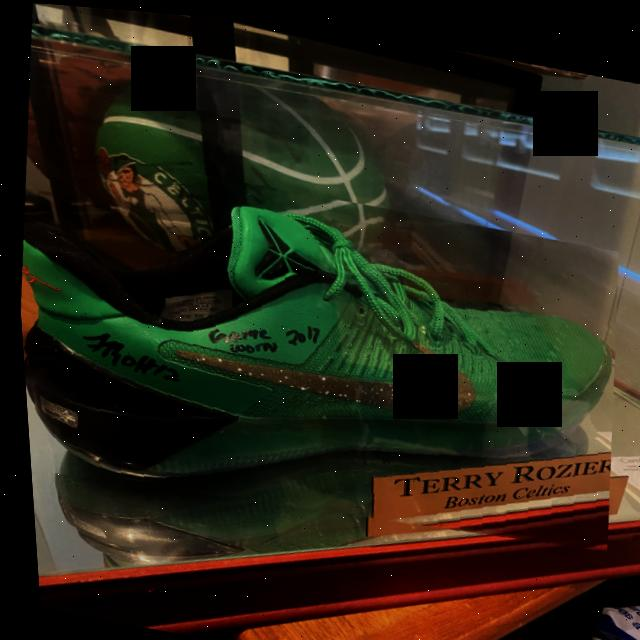shoe: (7, 140, 633, 569)
